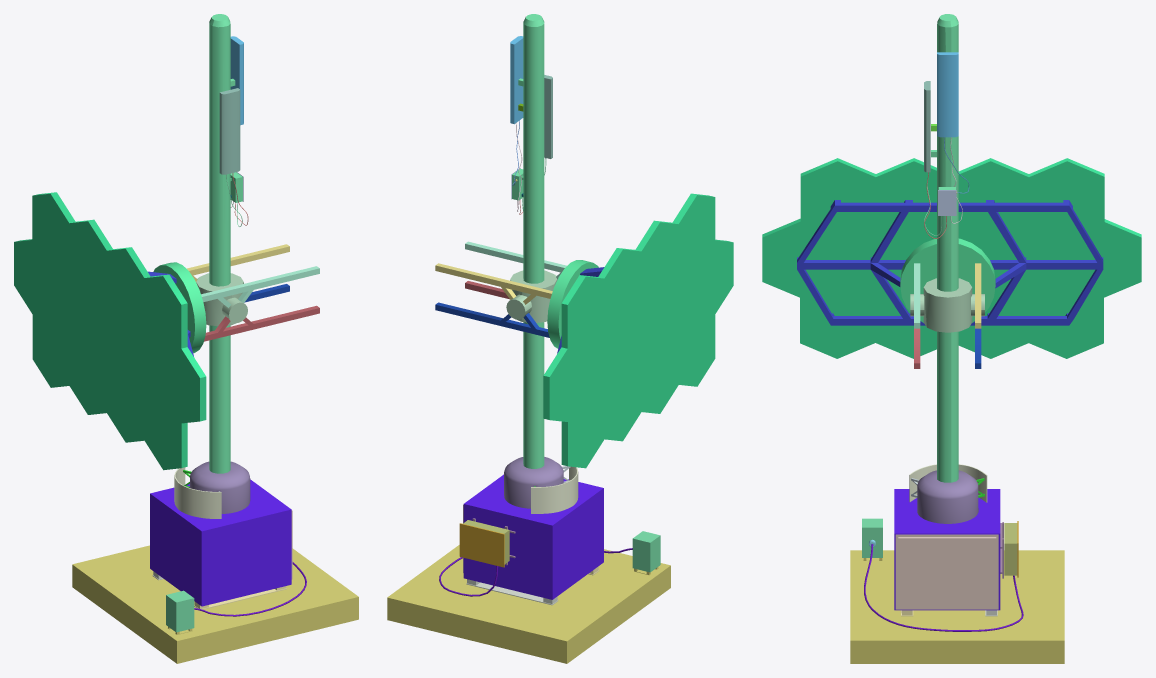
3 views of the same model, side by side, from view 1: azimuth 30°, elevation 25°; view 2: azimuth 150°, elevation 25°; view 3: azimuth 270°, elevation 25° (orthographic). The views are drawn at different scales.
Parts seen in each view (by area): view 1: Object_2.294, Object_2.394, Object_2.351, split_parent_6, Object_2.366, Object_2.410, Object_2.353, split_parent_41, split_parent_45, split_parent_17, Object_2.279, Object_2.066 (+2 smaller); view 2: Object_2.294, Object_2.394, Object_2.351, split_parent_6, Object_2.366, Object_2.361, split_parent_45, Object_2.353, split_parent_41, split_parent_35, Object_2.473, Object_2.040 (+4 smaller); view 3: Object_2.294, Object_2.394, split_parent_11, Object_2.119, split_parent_6, Object_2.351, Object_2.353, Object_2.366, split_parent_45, Object_2.040, split_parent_41, Object_2.066 (+3 smaller).
Part boxes in pixels (x1,y1,x2,y2): Object_2.294: (14,192,206,470); Object_2.394: (72,545,358,663); Object_2.351: (150,479,291,606); split_parent_6: (209,14,242,473); Object_2.366: (190,461,250,513); Object_2.410: (219,88,240,174); Object_2.353: (153,262,206,353); split_parent_41: (174,467,221,518); split_parent_45: (196,273,247,326); split_parent_17: (201,266,319,307); Object_2.279: (204,305,319,341); Object_2.066: (166,590,194,632); Object_2.294: (543,193,733,468); Object_2.394: (387,545,670,663); Object_2.351: (463,474,603,599); split_parent_6: (512,14,544,468); Object_2.366: (504,457,563,508); Object_2.361: (459,523,504,567); split_parent_45: (506,270,557,322); Object_2.353: (547,260,598,348); split_parent_41: (531,466,578,513); split_parent_35: (435,263,552,304); Object_2.473: (435,302,549,337); Object_2.040: (510,36,523,124); Object_2.294: (762,158,1141,358); Object_2.394: (850,550,1064,663); split_parent_11: (797,200,1103,325); Object_2.119: (895,534,998,609); split_parent_6: (931,14,958,482); Object_2.351: (894,489,1000,610); Object_2.353: (900,238,995,322); Object_2.366: (917,470,978,523); split_parent_45: (910,278,984,332); Object_2.040: (937,52,958,137); split_parent_41: (909,464,987,502); Object_2.066: (862,518,882,557).
Bounding box in the file's own units: 0.3588 × 1 × 0.5721.
